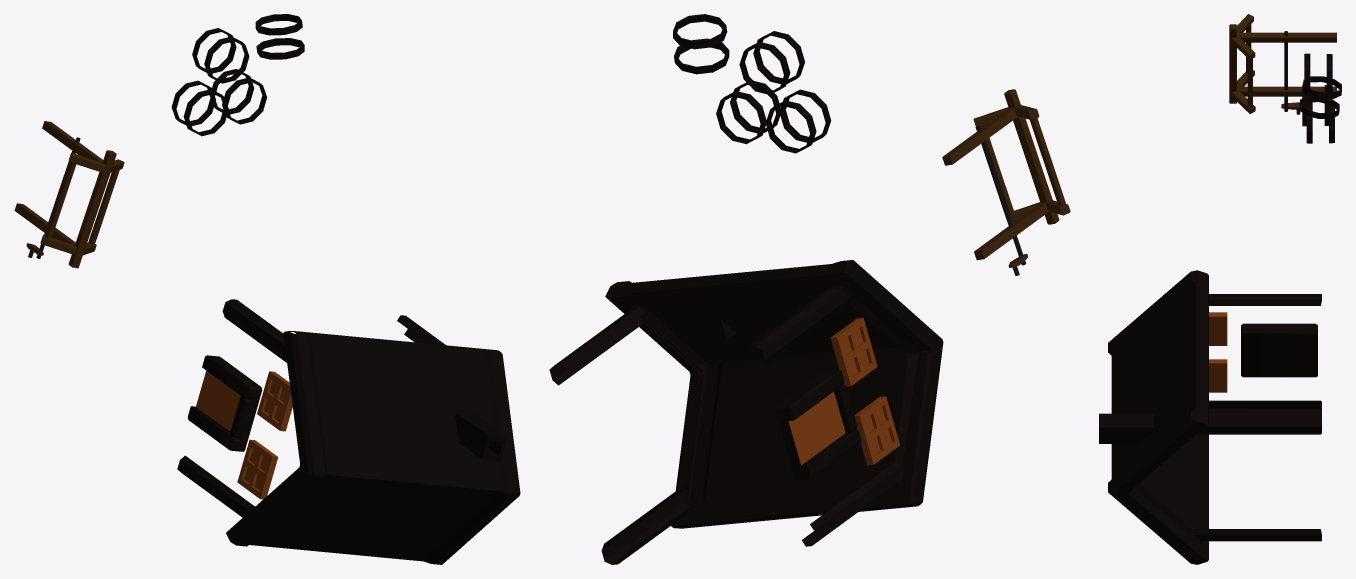
File: HouseWood.obj
3 views of the same model, side by side, from view 1: azimuth 30°, elevation 25°; view 2: azimuth 150°, elevation 25°; view 3: azimuth 270°, elevation 25° (orthographic). The views are drawn at different scales.
Parts seen in each view (by area): view 1: House.009, House.011, Barrel.003, Well.008, Barrel.002, Barrel.001, Barrel, Well.022; view 2: House.009, House.011, Barrel.002, Barrel.001, Barrel.003, Well.008, Barrel, Well.002, Well.022, Well.020, Well.001; view 3: House.009, House.011, Barrel.003, Well.022, Well.002, Well.008, Barrel, Barrel.001.
Part boxes in pixels (<box>): House.009: <box>177,299,520,564</box>; House.011: <box>196,371,292,499</box>; Barrel.003: <box>255,14,304,59</box>; Well.008: <box>68,150,116,268</box>; Barrel.002: <box>171,80,228,136</box>; Barrel.001: <box>192,28,249,83</box>; Barrel: <box>212,69,266,124</box>; Well.022: <box>42,121,103,162</box>; House.009: <box>549,260,943,564</box>; House.011: <box>788,317,899,465</box>; Barrel.002: <box>765,89,831,153</box>; Barrel.001: <box>739,31,804,94</box>; Barrel.003: <box>673,14,729,74</box>; Well.008: <box>1004,89,1059,224</box>; Barrel: <box>716,81,780,143</box>; Well.002: <box>974,202,1048,260</box>; Well.022: <box>942,108,1017,165</box>; Well.020: <box>1030,118,1065,205</box>; Well.001: <box>975,125,1026,265</box>; House.009: <box>1099,270,1321,564</box>; House.011: <box>1209,312,1227,392</box>; Barrel.003: <box>1299,76,1341,118</box>; Well.022: <box>1237,32,1336,42</box>; Well.002: <box>1237,86,1336,96</box>; Well.008: <box>1229,24,1236,103</box>; Barrel: <box>1306,102,1334,143</box>; Barrel.001: <box>1304,53,1332,95</box>.
Bounding box in the file's own units: 1.41 × 1.61 × 0.7961.
